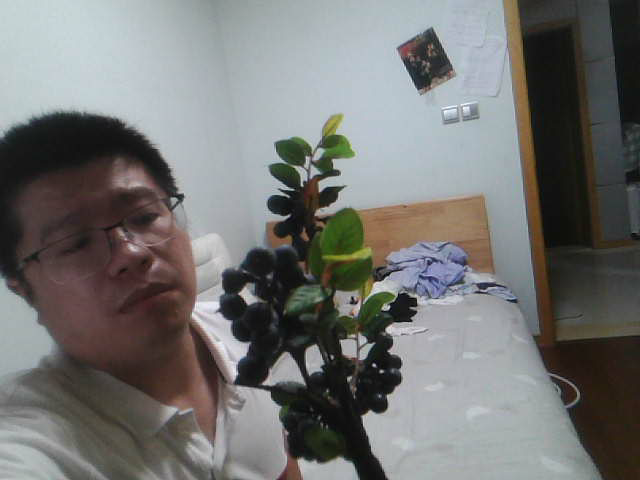blueberry: (235, 305, 273, 337), (245, 246, 275, 274)
